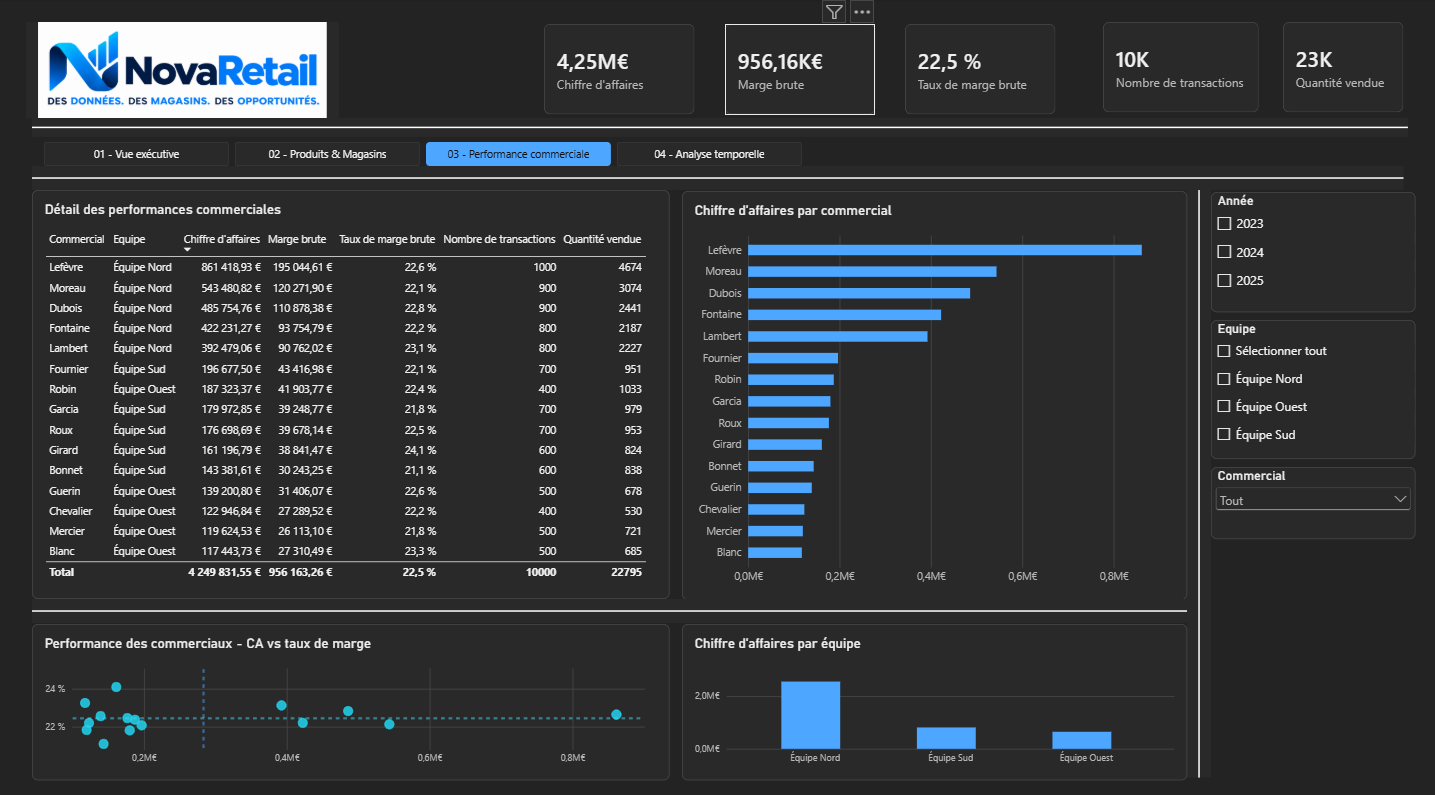

This screenshot's page, from the dashboard's own definition file:
{"tool":"powerbi","page":{"name":"03 - Performance commerciale","canvas":[1920,1080],"ordinal":2},"visuals":[{"type":"cardVisual","fields":{"Data":["_Mesures.Chiffre d'affaires"]},"box":[729.5,35,200,120],"z":0},{"type":"cardVisual","fields":{"Data":["_Mesures.Marge brute"]},"box":[969.5,35,200,120],"z":1000},{"type":"cardVisual","fields":{"Data":["_Mesures.Taux de marge brute"]},"box":[1209.5,35,200,120],"z":2000},{"type":"image","box":[40,32,416,128],"z":3000},{"type":"slicer","fields":{"Values":["dim_commercial.equipe"]},"box":[1616,428.5,272,185],"z":4000},{"type":"slicer","fields":{"Values":["dim_commercial.nom_commercial"]},"box":[1616,624,272,96],"z":5000},{"type":"shape","box":[1584,252.5,32,784],"z":6000},{"type":"clusteredColumnChart","title":"Chiffre d''affaires par équipe","fields":{"Category":["dim_commercial.equipe"],"Y":["_Mesures.Chiffre d'affaires"]},"box":[912,832,672,208],"z":7000},{"type":"barChart","title":"Chiffre d''affaires par commercial","fields":{"Category":["dim_commercial.nom_commercial"],"Y":["_Mesures.Chiffre d'affaires"]},"box":[912,256.4,672,544],"z":8000},{"type":"scatterChart","title":"Performance des commerciaux - CA vs taux de marge","fields":{"Category":["dim_commercial.nom_commercial"],"X":["_Mesures.Chiffre d'affaires"],"Y":["_Mesures.Taux de marge brute"]},"box":[48,832,848,208],"z":9000},{"type":"shape","box":[48,800,1536,32],"z":10000},{"type":"cardVisual","fields":{"Data":["_Mesures.Nombre de transactions"]},"box":[1472,32,208,120],"z":11000},{"type":"cardVisual","fields":{"Data":["_Mesures.Quantité vendue"]},"box":[1712,32,160,120],"z":12000},{"type":"tableEx","title":"Détail des performances commerciales","fields":{"Values":["dim_commercial.nom_commercial","dim_commercial.equipe","_Mesures.Chiffre d'affaires","_Mesures.Marge brute","_Mesures.Taux de marge brute","_Mesures.Nombre de transactions","_Mesures.Quantité vendue"]},"box":[48,256,848,544],"z":13000},{"type":"shape","box":[48,160,1830,25],"z":14000},{"type":"shape","box":[48,224,1824,32],"z":15000},{"type":"pageNavigator","box":[64,192,1008,32],"z":16000},{"type":"slicer","fields":{"Values":["dim_date.annee"]},"box":[1616,257.8,272,160],"z":17000}]}

Visuals, with their boxes in screenshot pixels (x1, y1, x2, y2), scaled from the page's 1920x1080 canvas onto the 1435x795 screenshot:
cardVisual - _Mesures.Chiffre d'affaires: bbox=(545, 26, 695, 114)
cardVisual - _Mesures.Marge brute: bbox=(725, 26, 874, 114)
cardVisual - _Mesures.Taux de marge brute: bbox=(904, 26, 1053, 114)
image: bbox=(30, 24, 341, 118)
slicer - dim_commercial.equipe: bbox=(1208, 315, 1411, 452)
slicer - dim_commercial.nom_commercial: bbox=(1208, 459, 1411, 530)
shape: bbox=(1184, 186, 1208, 763)
"Chiffre d''affaires par équipe" clusteredColumnChart: bbox=(682, 612, 1184, 766)
"Chiffre d''affaires par commercial" barChart: bbox=(682, 189, 1184, 589)
"Performance des commerciaux - CA vs taux de marge" scatterChart: bbox=(36, 612, 670, 766)
shape: bbox=(36, 589, 1184, 612)
cardVisual - _Mesures.Nombre de transactions: bbox=(1100, 24, 1256, 112)
cardVisual - _Mesures.Quantité vendue: bbox=(1280, 24, 1399, 112)
"Détail des performances commerciales" tableEx: bbox=(36, 188, 670, 589)
shape: bbox=(36, 118, 1404, 136)
shape: bbox=(36, 165, 1399, 188)
pageNavigator: bbox=(48, 141, 801, 165)
slicer - dim_date.annee: bbox=(1208, 190, 1411, 308)
